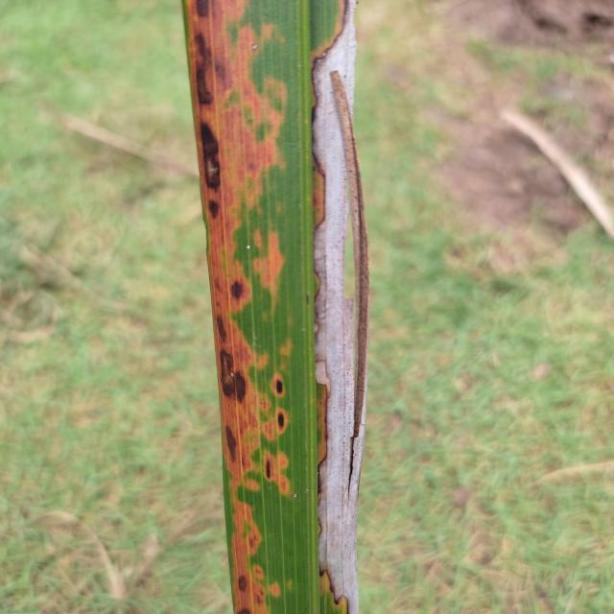Kalium: (175, 0, 369, 605)
